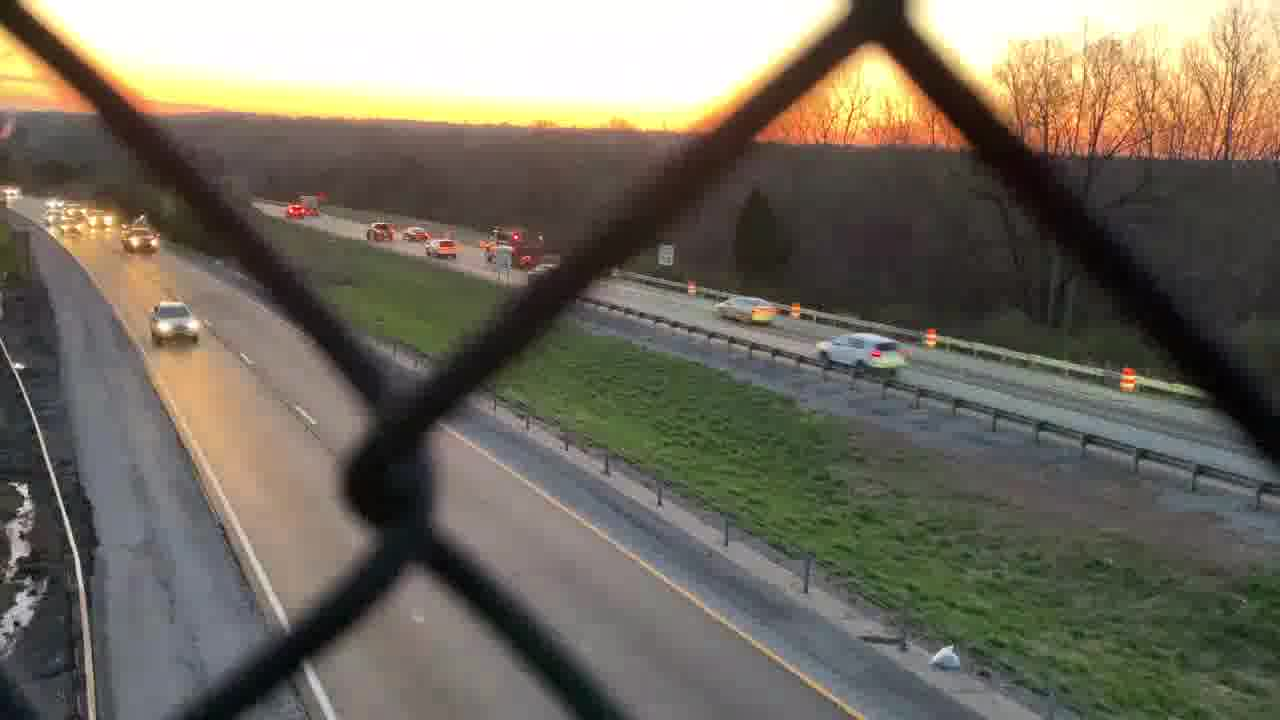heavyTruck: (474, 225, 546, 269)
largeCar: (817, 322, 909, 377), (149, 299, 205, 345)
smallCar: (711, 293, 784, 324)
vehicle: (121, 224, 158, 253), (423, 237, 463, 259), (362, 222, 394, 245), (295, 193, 329, 214), (1, 179, 24, 202), (88, 205, 110, 229), (403, 222, 428, 242), (61, 218, 84, 236), (287, 203, 308, 217)
